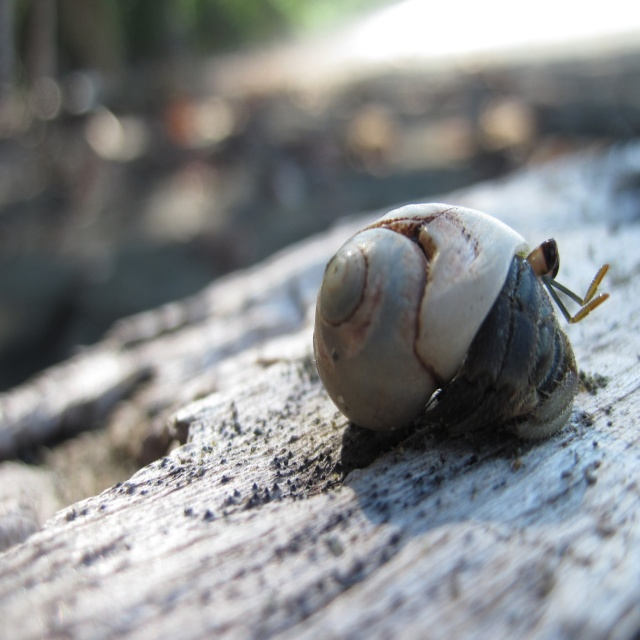Snail: (309, 202, 612, 445)
